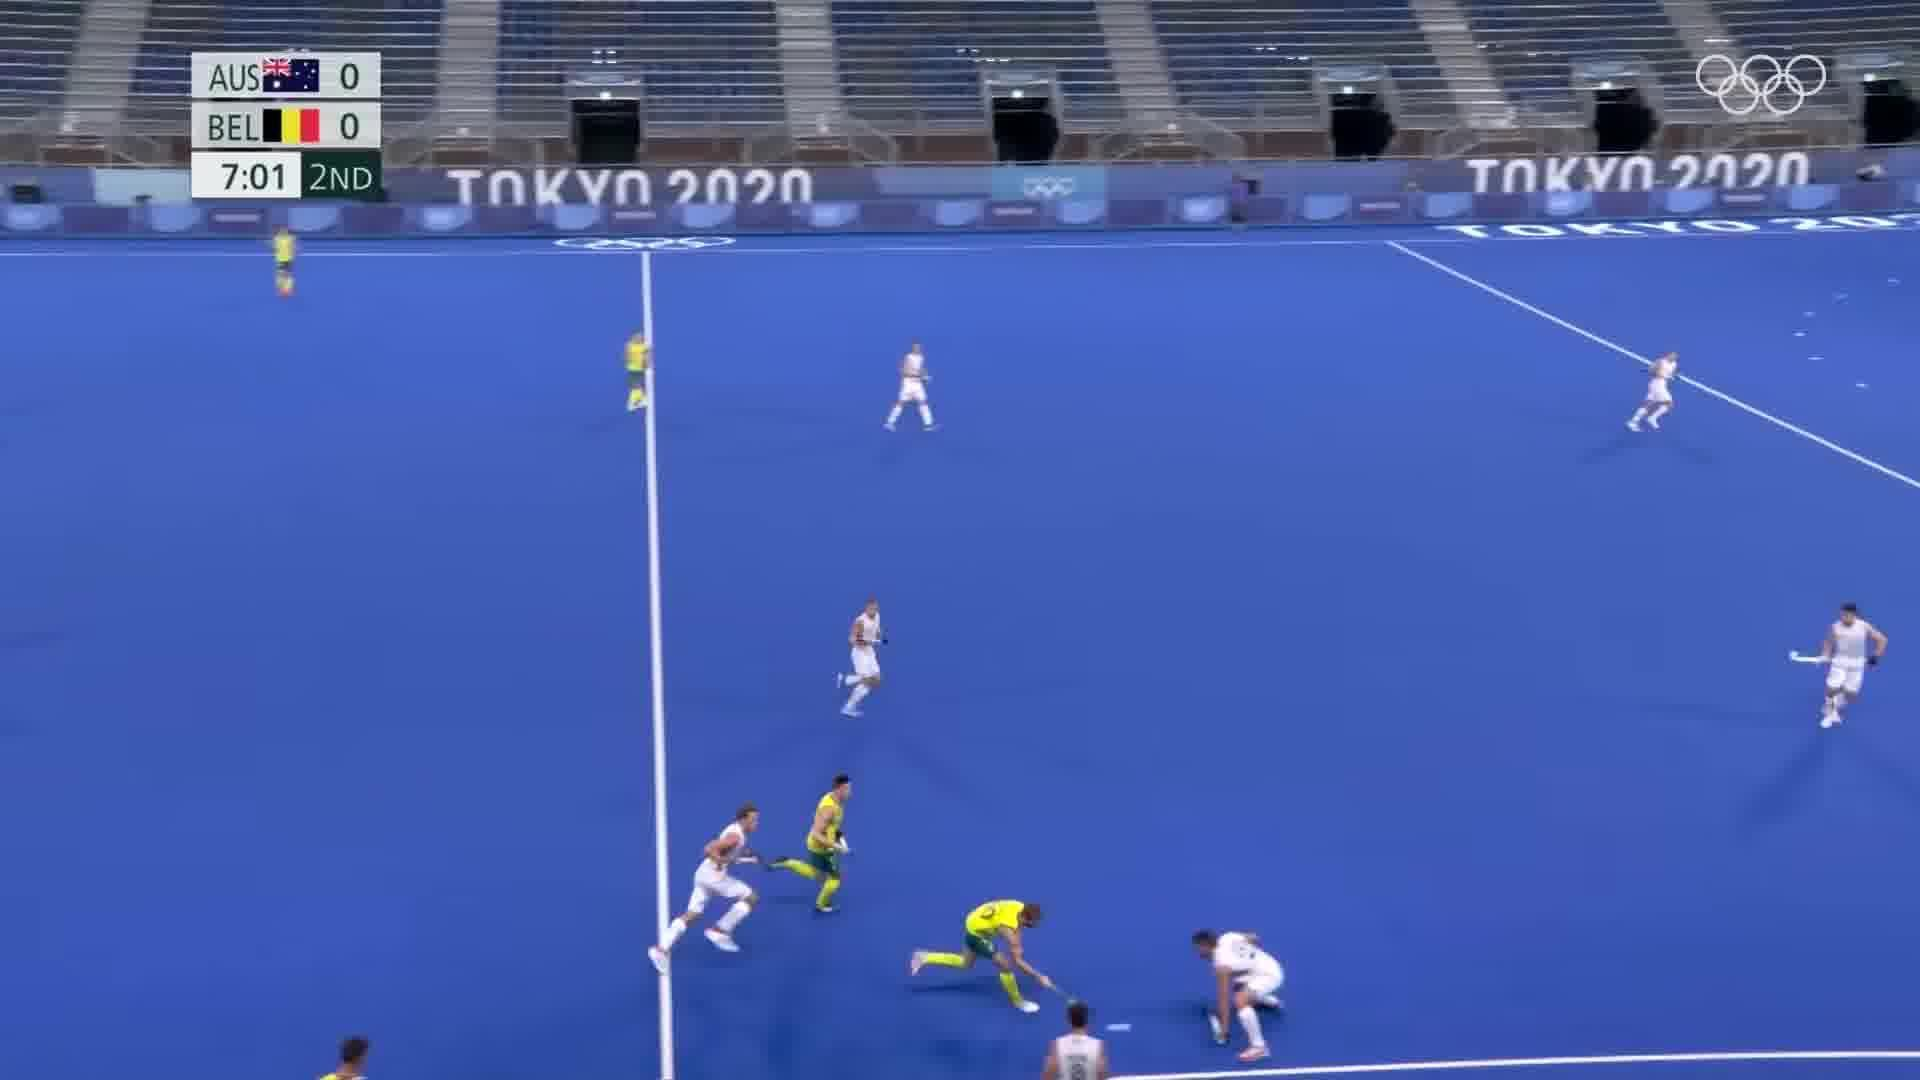ball: (1102, 1010, 1139, 1038)
